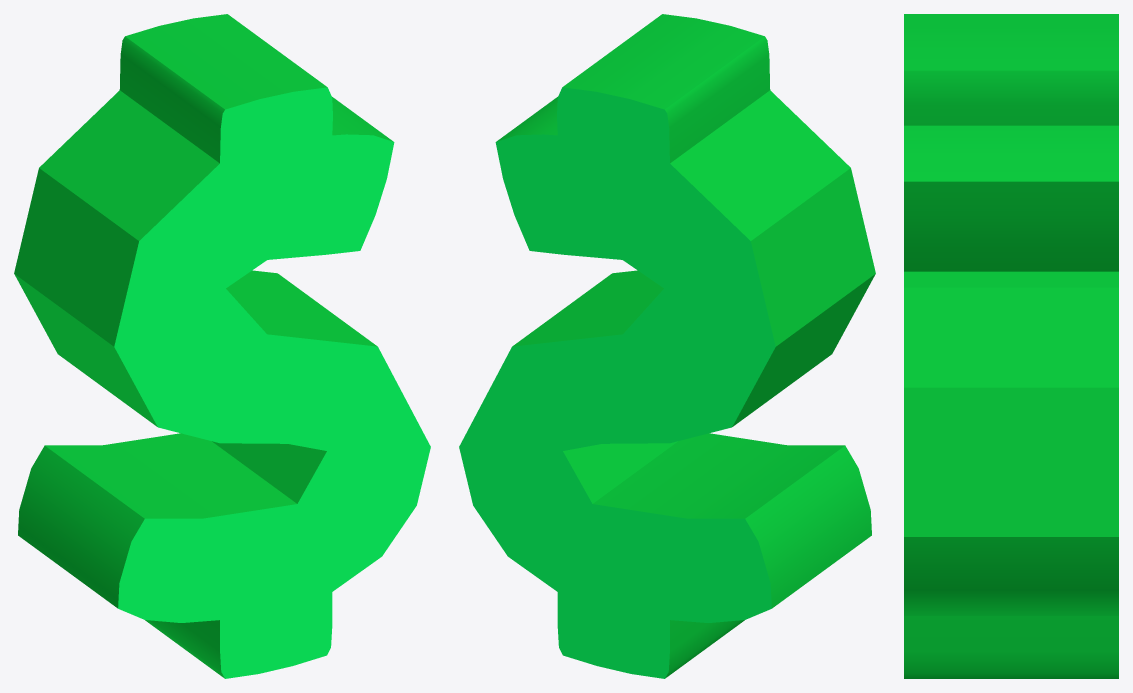
File: symbol$_Zyzol_Green.glb
3 views of the same model, side by side, from view 1: azimuth 30°, elevation 25°; view 2: azimuth 150°, elevation 25°; view 3: azimuth 270°, elevation 25° (orthographic). The views are drawn at different scales.
Parts seen in each view (by area): view 1: $_Zyzol_Green; view 2: $_Zyzol_Green; view 3: $_Zyzol_Green.
Part boxes in pixels (left/top/right/bottom): $_Zyzol_Green: left=14, top=14, right=430, bottom=678; $_Zyzol_Green: left=459, top=14, right=875, bottom=678; $_Zyzol_Green: left=904, top=14, right=1118, bottom=678.
Size of what is drawn, in the model's own units: 0.0821 by 0.1425 by 0.045.
2 materials, 2 textured.
